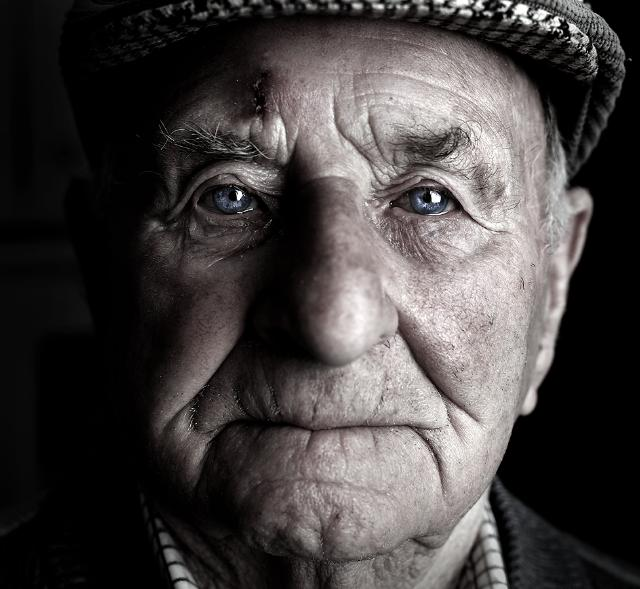chin: (289, 468, 343, 495)
forehead: (390, 66, 452, 100), (327, 90, 345, 128)
frown_line: (341, 125, 373, 171), (365, 116, 389, 164), (274, 122, 300, 166)
gummy_smile: (400, 328, 450, 408), (194, 333, 238, 403)
sad_smile: (418, 434, 452, 488), (192, 437, 220, 484)
smoker_lines: (266, 386, 288, 418)
